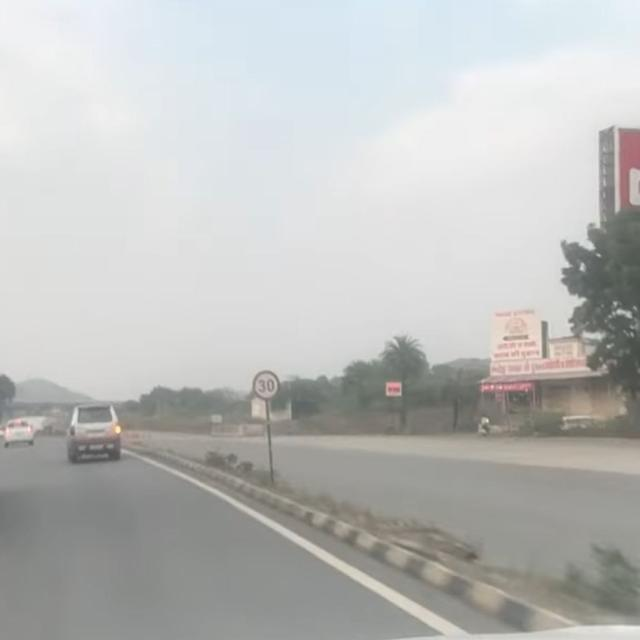speedlimit_30: (250, 359, 300, 413)
